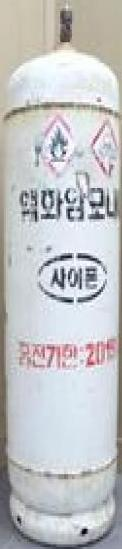cylinder: (1, 0, 122, 549)
